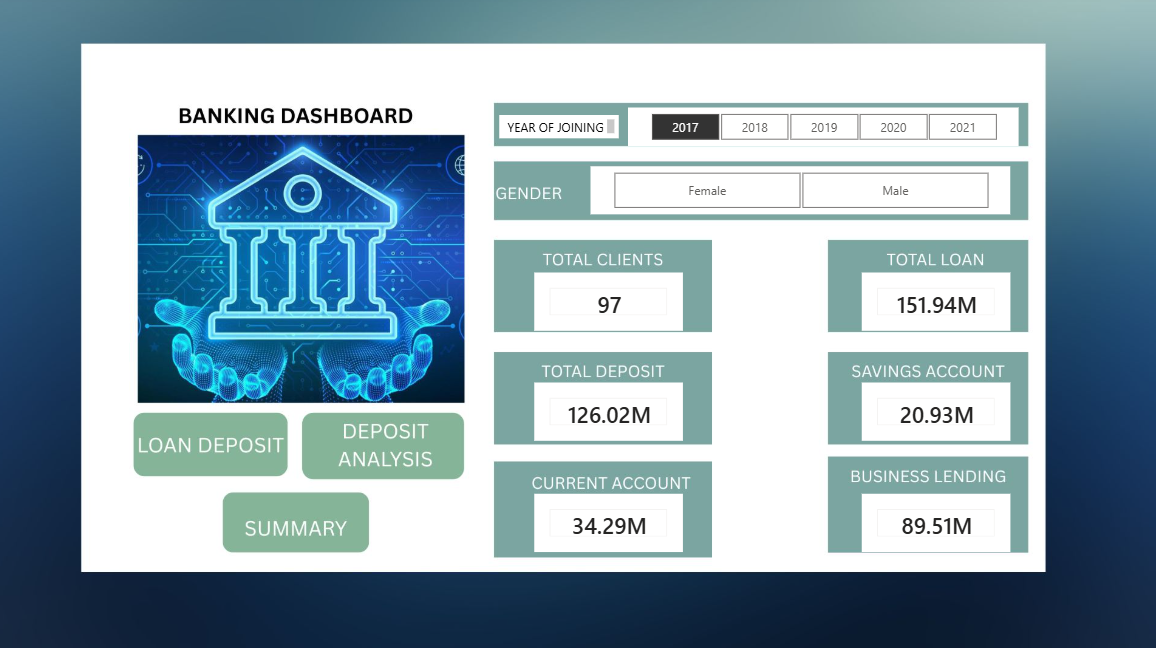

Layout of this report page (visuals, bound fields, positions):
{"tool":"powerbi","page":{"name":"BANKING DASHBOARD","canvas":[1280,720],"ordinal":0},"visuals":[{"type":"cardVisual","fields":{"Data":["Banking.Total loan"]},"box":[954,304.6,163.2,64.4],"z":0},{"type":"cardVisual","fields":{"Data":["CountNonNull(Banking.Name)"]},"box":[594.3,304.6,163.2,64.4],"z":1000},{"type":"cardVisual","fields":{"Data":["Banking.Total Deposit"]},"box":[594.3,425.3,163.2,64.4],"z":2000},{"type":"cardVisual","fields":{"Data":["Sum(Banking.Saving Accounts)"]},"box":[954,425.3,163.2,64.4],"z":3000},{"type":"cardVisual","fields":{"Data":["Sum(Banking.Checking Accounts)"]},"box":[594.3,547.1,163.2,64.4],"z":4000},{"type":"cardVisual","fields":{"Data":["Sum(Banking.Business Lending)"]},"box":[954,547.1,163.2,64.4],"z":5000},{"type":"slicer","fields":{"Values":["Banking.GenderId"]},"box":[656.3,188.5,460.9,52.9],"z":6000},{"type":"slicer","fields":{"Values":["Banking.year of joining"]},"box":[696.6,123,428.7,42.5],"z":7000},{"type":"textbox","box":[556.3,132.2,131,25.3],"z":8000},{"type":"bookmarkNavigator","box":[0,0,600,50],"z":9000}]}

Visuals, with their boxes in screenshot pixels (x1, y1, x2, y2), scaled from the page's 1280x720 canvas onto the 1156x648 screenshot:
cardVisual - Banking.Total loan: box(862, 274, 1009, 332)
cardVisual - CountNonNull(Banking.Name): box(537, 274, 684, 332)
cardVisual - Banking.Total Deposit: box(537, 383, 684, 441)
cardVisual - Sum(Banking.Saving Accounts): box(862, 383, 1009, 441)
cardVisual - Sum(Banking.Checking Accounts): box(537, 492, 684, 550)
cardVisual - Sum(Banking.Business Lending): box(862, 492, 1009, 550)
slicer - Banking.GenderId: box(593, 170, 1009, 217)
slicer - Banking.year of joining: box(629, 111, 1016, 149)
textbox: box(502, 119, 621, 142)
bookmarkNavigator: box(0, 0, 542, 45)
